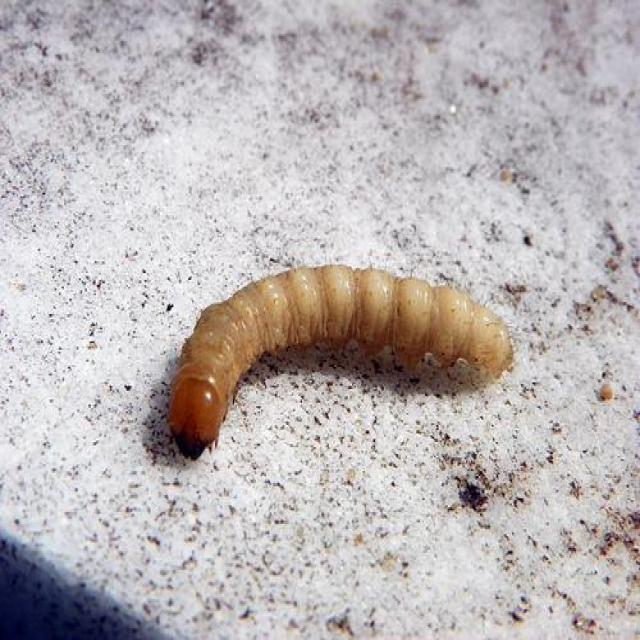Grub-Adult-: (150, 243, 524, 467)
